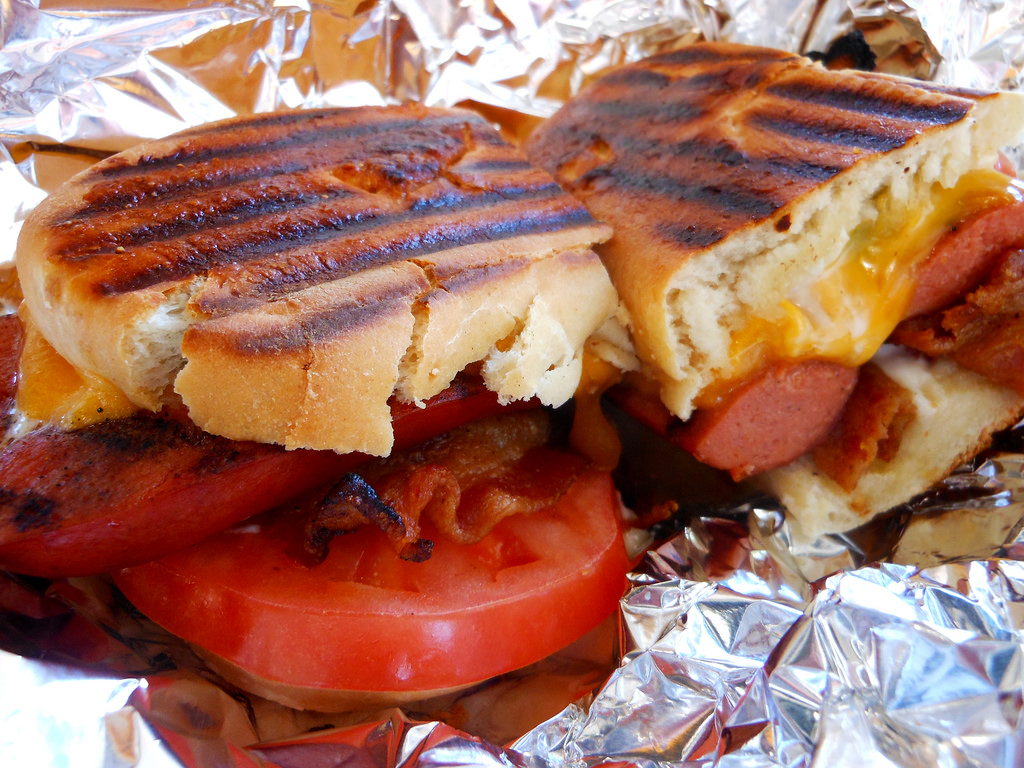slice of bread: (37, 144, 601, 401), (540, 63, 926, 359)
